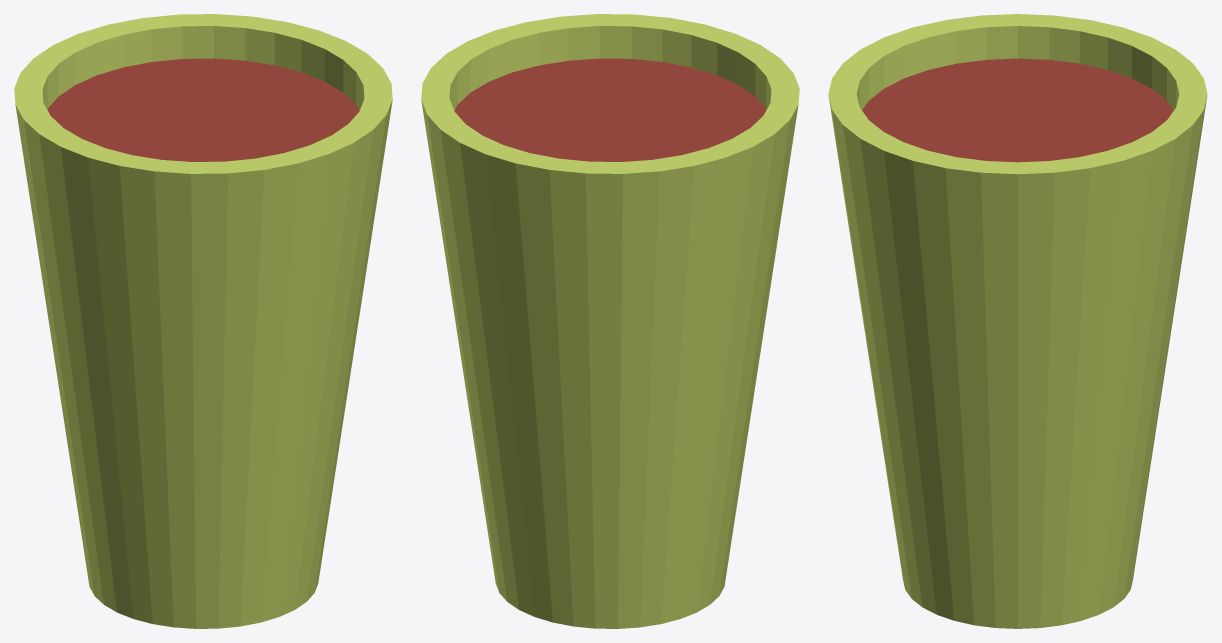
Rendered from Pot_4.fbx.
The picture shows the model from 3 angles, left to right: view 1: azimuth 30°, elevation 25°; view 2: azimuth 150°, elevation 25°; view 3: azimuth 270°, elevation 25°; orthographic projection.
Parts seen in each view (by area): view 1: Cylinder.004; view 2: Cylinder.004; view 3: Cylinder.004.
Part boxes in pixels (x1,y1,x2,y2): Cylinder.004: (14,14,392,628); Cylinder.004: (421,14,799,628); Cylinder.004: (828,14,1207,628).
Size of the model in its own units: 19.94 by 28.21 by 19.94.
1 material, 1 textured.
